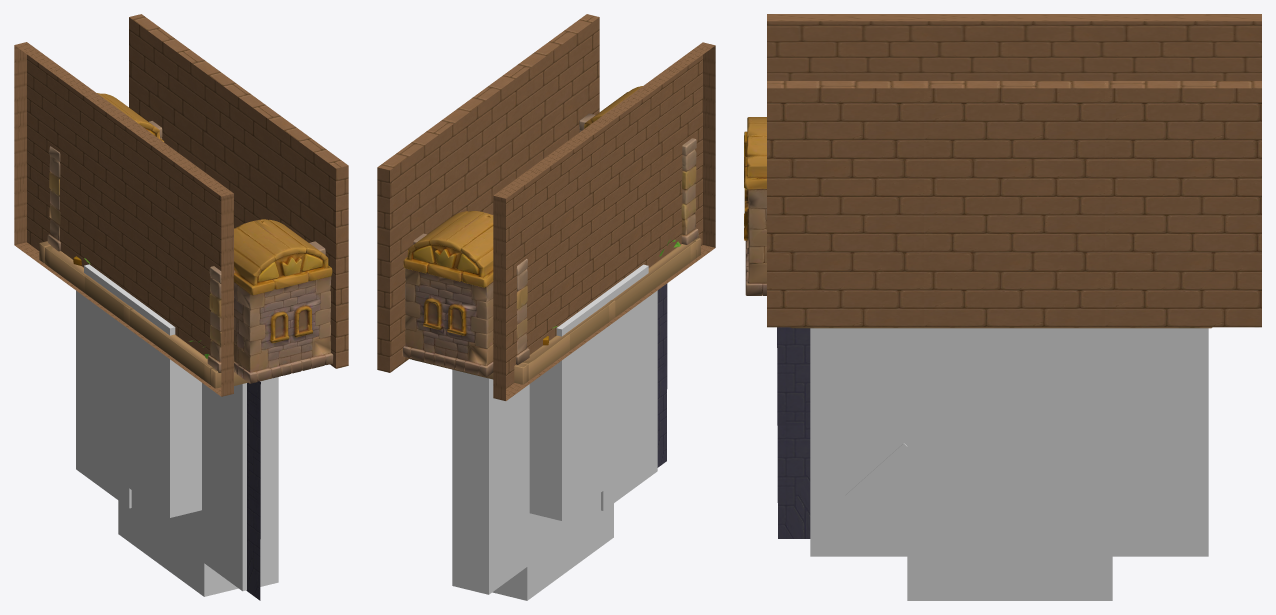
Rendered from world.glb.
3 renders of one model, left to right at view 1: azimuth 30°, elevation 25°; view 2: azimuth 150°, elevation 25°; view 3: azimuth 270°, elevation 25°, orthographic. The views are drawn at different scales.
Parts seen in each view (by area): view 1: wall_0, wall_1, cube_4, arch_0, cube_2, cube_0, floor_0, walls, cube_1, arch_1; view 2: wall_0, wall_1, cube_4, cube_1, arch_1, cube_0, floor_0, cube_2, arch_0, walls; view 3: wall_1, cube_3, wall_0, cube_1, cube_2, cube_0, walls, arch_0, cube_7, floor_0.
Part boxes in pixels (x1,y1,x2,y2): wall_0: (14,42,233,396); wall_1: (129,14,348,368); cube_4: (84,264,201,517); arch_0: (207,219,333,383); cube_2: (189,377,278,591); cube_0: (118,490,238,596); floor_0: (39,241,247,388); walls: (246,381,260,600); cube_1: (76,290,131,508); arch_1: (47,93,164,251); wall_0: (493,42,715,400); wall_1: (377,14,599,372); cube_4: (529,264,648,520); cube_1: (452,369,542,594); arch_1: (402,211,529,376); cube_0: (492,493,613,600); floor_0: (409,237,701,384); cube_2: (601,290,657,510); arch_0: (579,86,698,244); walls: (657,283,667,467); wall_1: (767,81,1261,327); cube_3: (907,328,1112,514); wall_0: (767,14,1261,80); cube_1: (1112,328,1208,556); cube_2: (810,328,907,556); cube_0: (907,514,1112,600); walls: (777,327,810,538); arch_0: (744,117,766,295); cube_7: (845,443,907,514); floor_0: (790,327,1212,328).
Bounding box in the file's own units: 7.05 × 23.98 × 20.78.
Materials: 8 (8 with a texture image).
